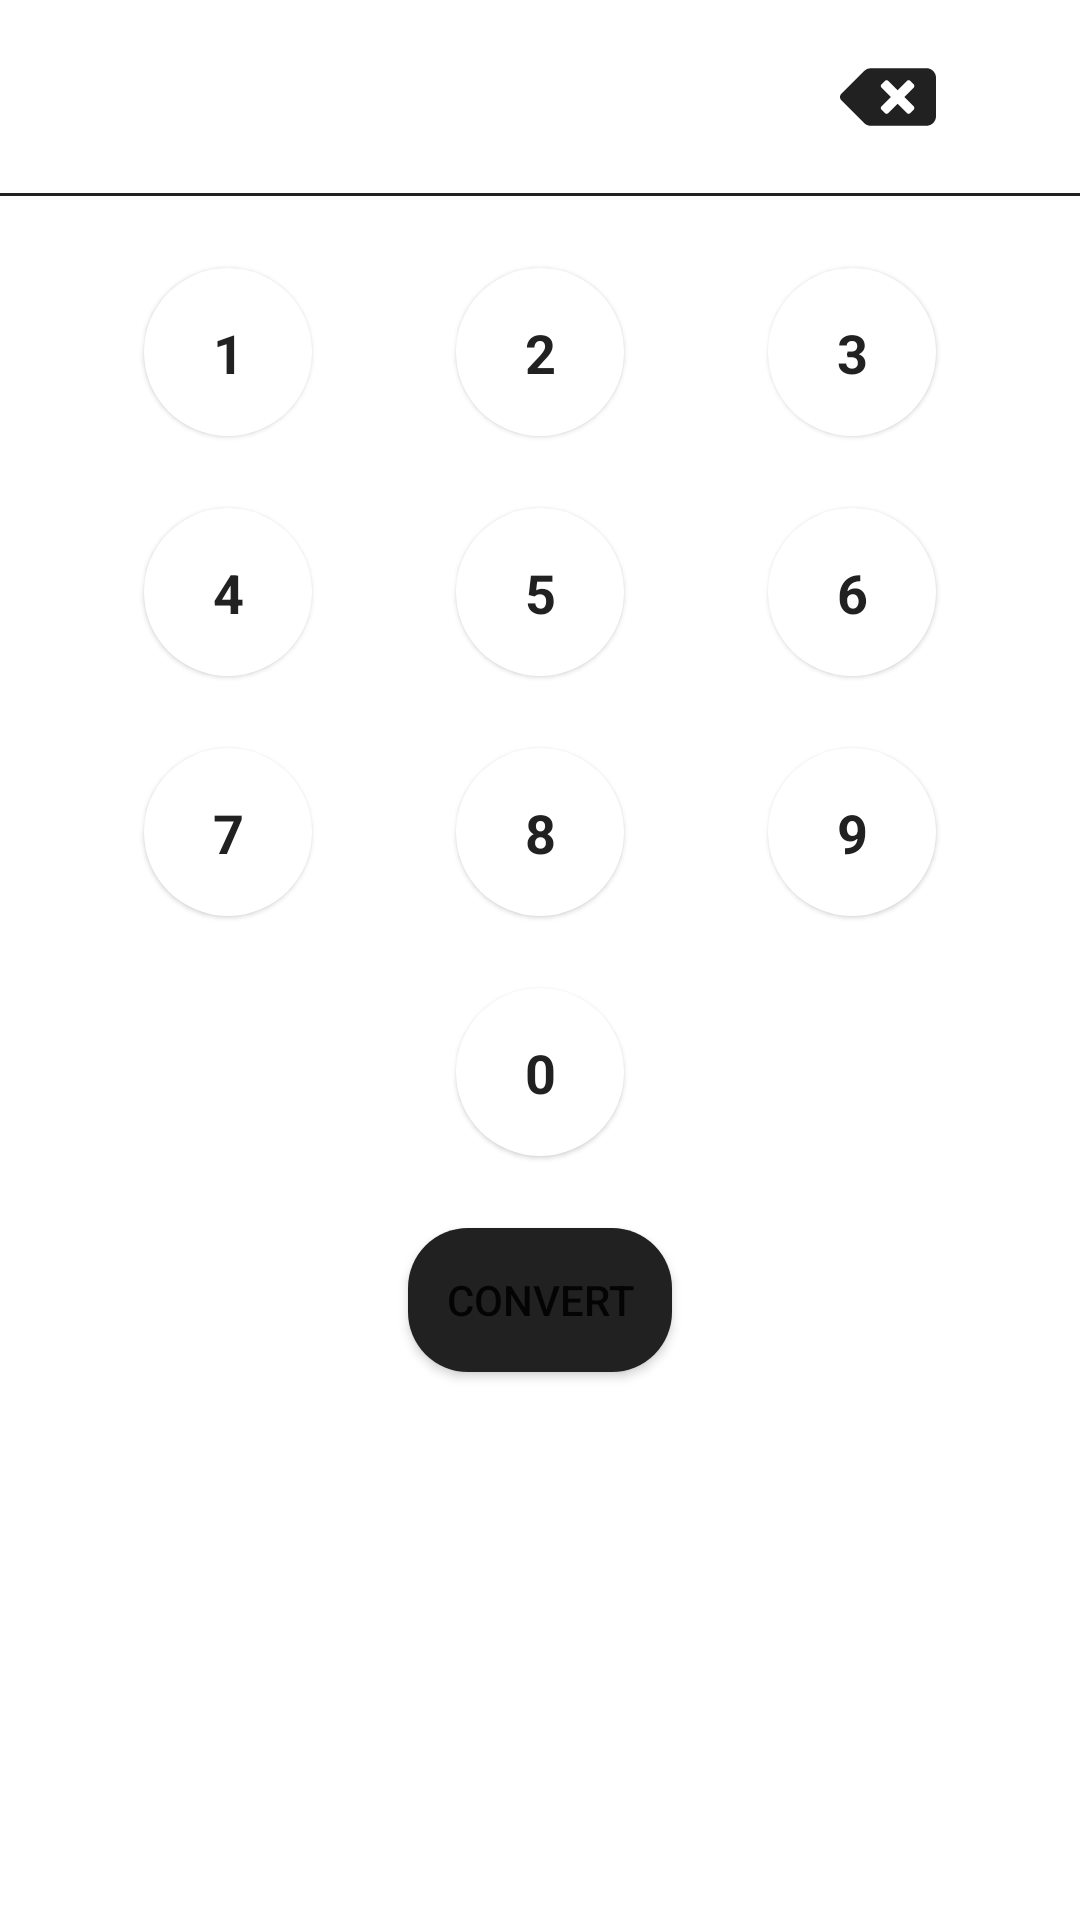

Icon bounding boxes for this 1080px×1920px phone screenshot, format (x1, y1, x2, y2):
delete: (840, 68, 936, 126)
